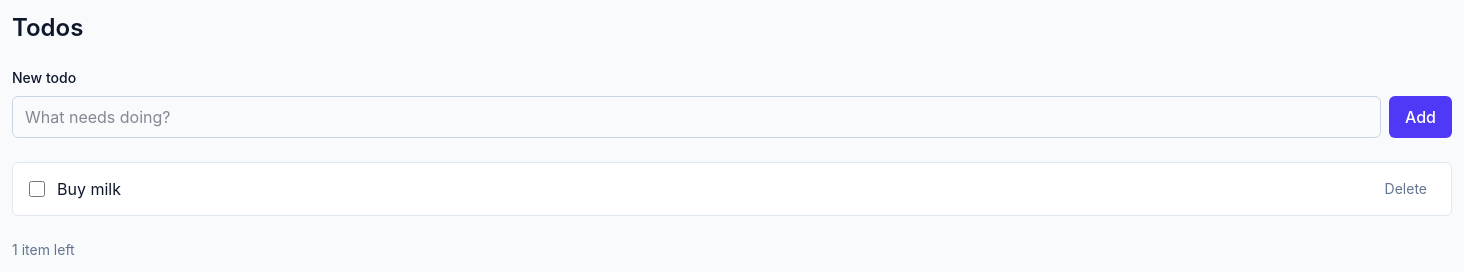
TodosPage › Scenario: Delete a todo — removes it from the list
The image size is (1464, 272).
What coordinates should you click on to do the following:
click the button with aria-label "Delete Buy milk"
I would click on:
 (1406, 189)
Its box is x1=1377 y1=175 x2=1435 y2=203.
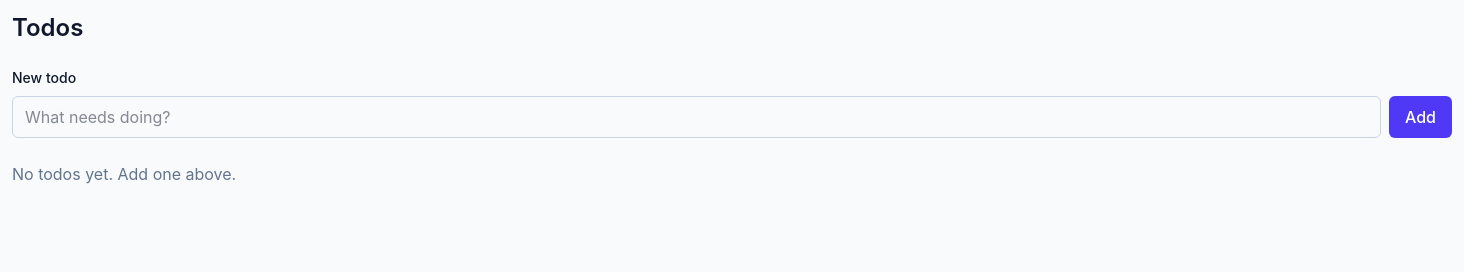
Expected: the text "No todos yet. Add one above." is shown, x1=12 y1=164 x2=236 y2=184
